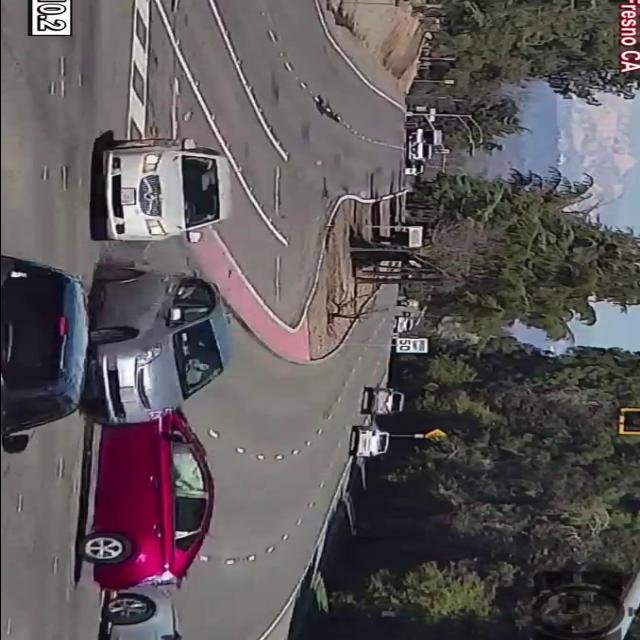accident: (73, 255, 251, 597)
